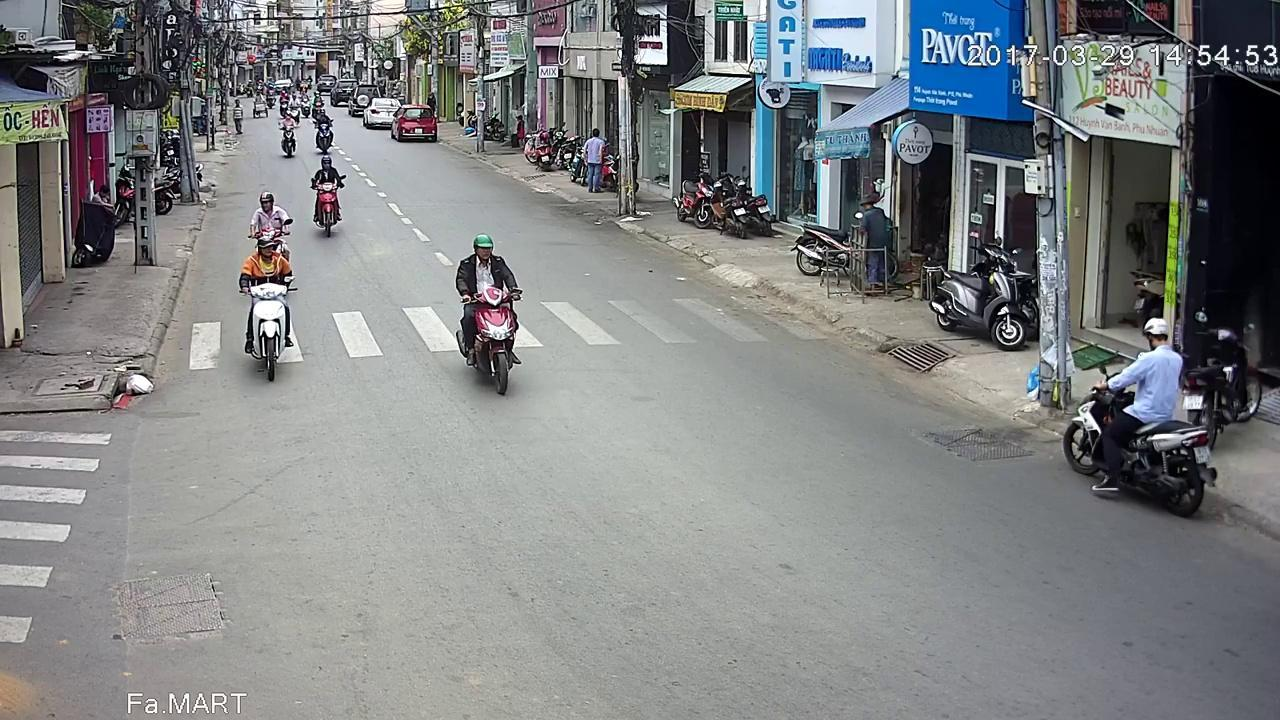xe hoi: (391, 102, 438, 141)
xe may: (1062, 320, 1217, 521), (461, 220, 530, 380), (242, 226, 303, 373), (309, 159, 349, 244), (276, 112, 298, 159), (313, 105, 335, 152)
